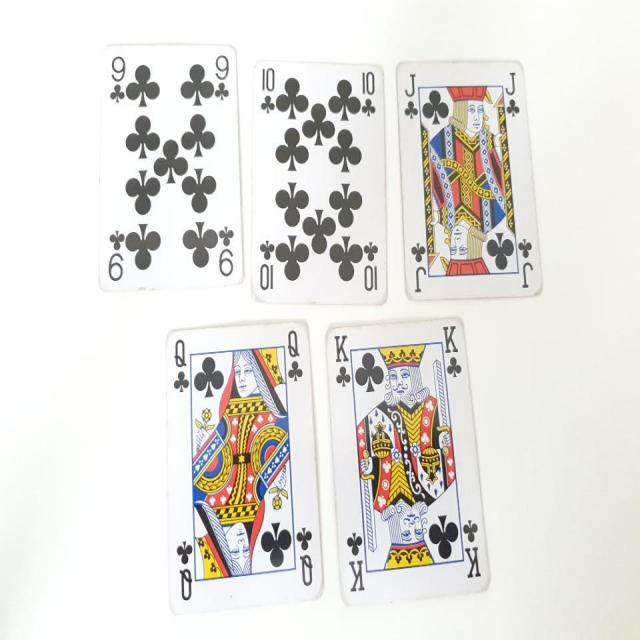10 Trefoils: (247, 54, 390, 305)
9 Trefoils: (96, 37, 245, 290)
J Trefoils: (394, 58, 543, 300)
K Trefoils: (324, 315, 492, 609)
Q Trefoils: (162, 318, 324, 609)
